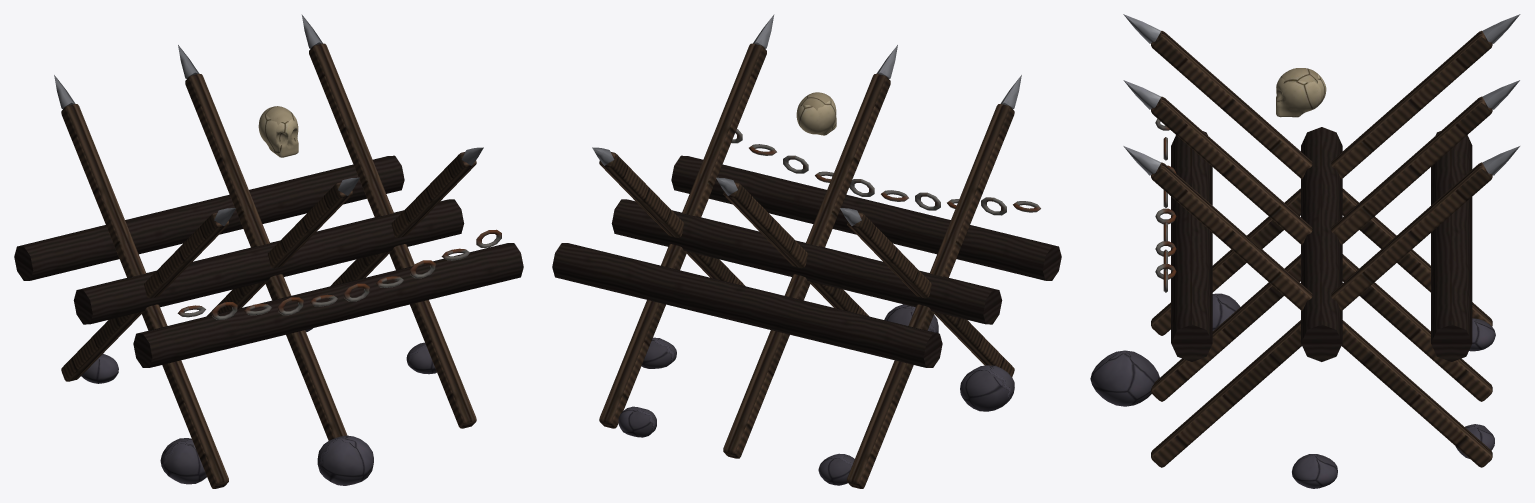
File: barricade.glb
3 renders of one model, left to right at view 1: azimuth 30°, elevation 25°; view 2: azimuth 150°, elevation 25°; view 3: azimuth 270°, elevation 25°, orthographic. The views are drawn at different scales.
Visible parts, largest first — view 1: Base; view 2: Base; view 3: Base.
Part boxes in pixels (x1,y1,x2,y2): Base: (14,14,523,488); Base: (552,14,1061,488); Base: (1090,14,1520,488).
Size of the model in its own units: 0.9 by 0.7236 by 0.8282.
Materials: 6 (6 with a texture image).
